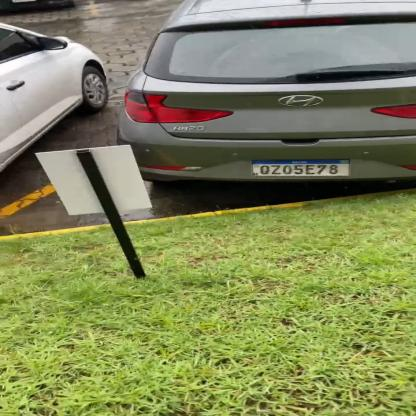Plate: (249, 154, 358, 182)
